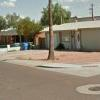Tree: (32, 6, 86, 31)
